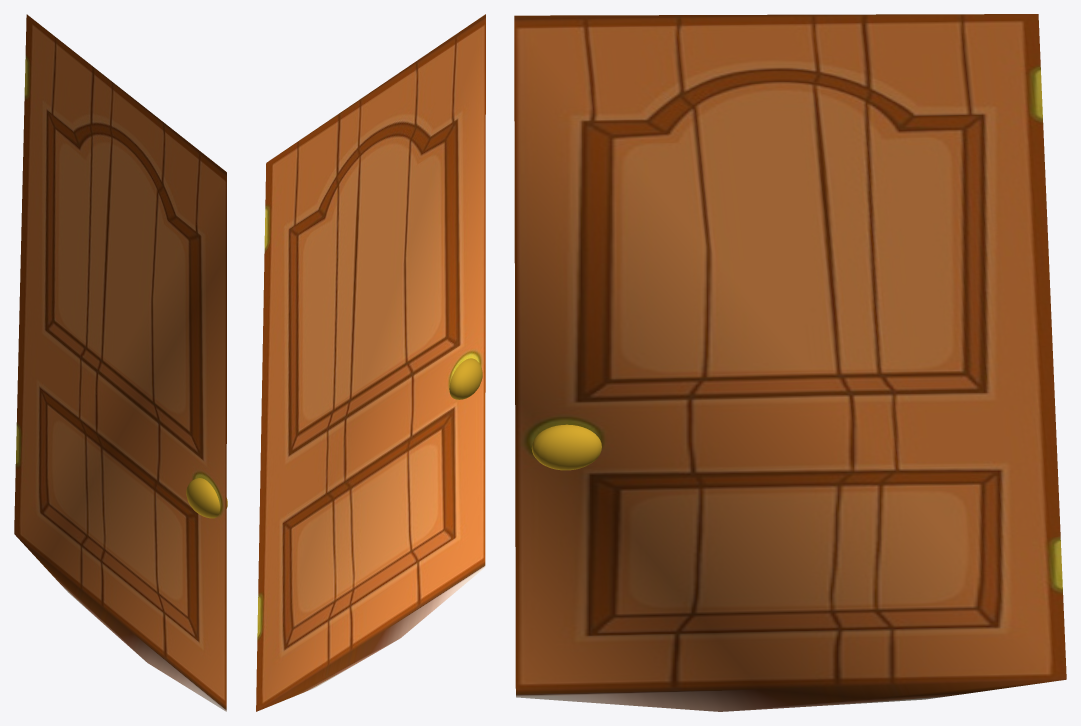
Rendered from puertaMickey.obj.
The picture shows the model from 3 angles, left to right: view 1: azimuth 30°, elevation 25°; view 2: azimuth 150°, elevation 25°; view 3: azimuth 270°, elevation 25°; orthographic projection. The views are drawn at different scales.
Parts seen in each view (by area): view 1: CasaMickey:polySurface9; view 2: CasaMickey:polySurface9; view 3: CasaMickey:polySurface9.
Boxes of the visible parts, box(x1,y1,x2,y2) form: CasaMickey:polySurface9: box(14, 14, 227, 711); CasaMickey:polySurface9: box(256, 14, 485, 711); CasaMickey:polySurface9: box(514, 14, 1066, 711).
Bounding box in the file's own units: 0.0667 × 1.28 × 0.9174.
2 materials, 2 textured.
